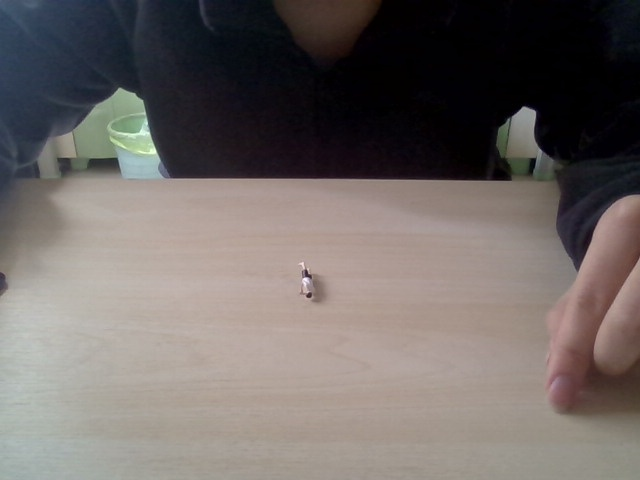fall: (292, 259, 317, 304)
